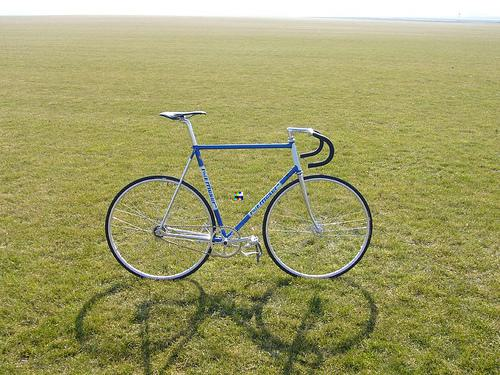car: (105, 110, 374, 282)
